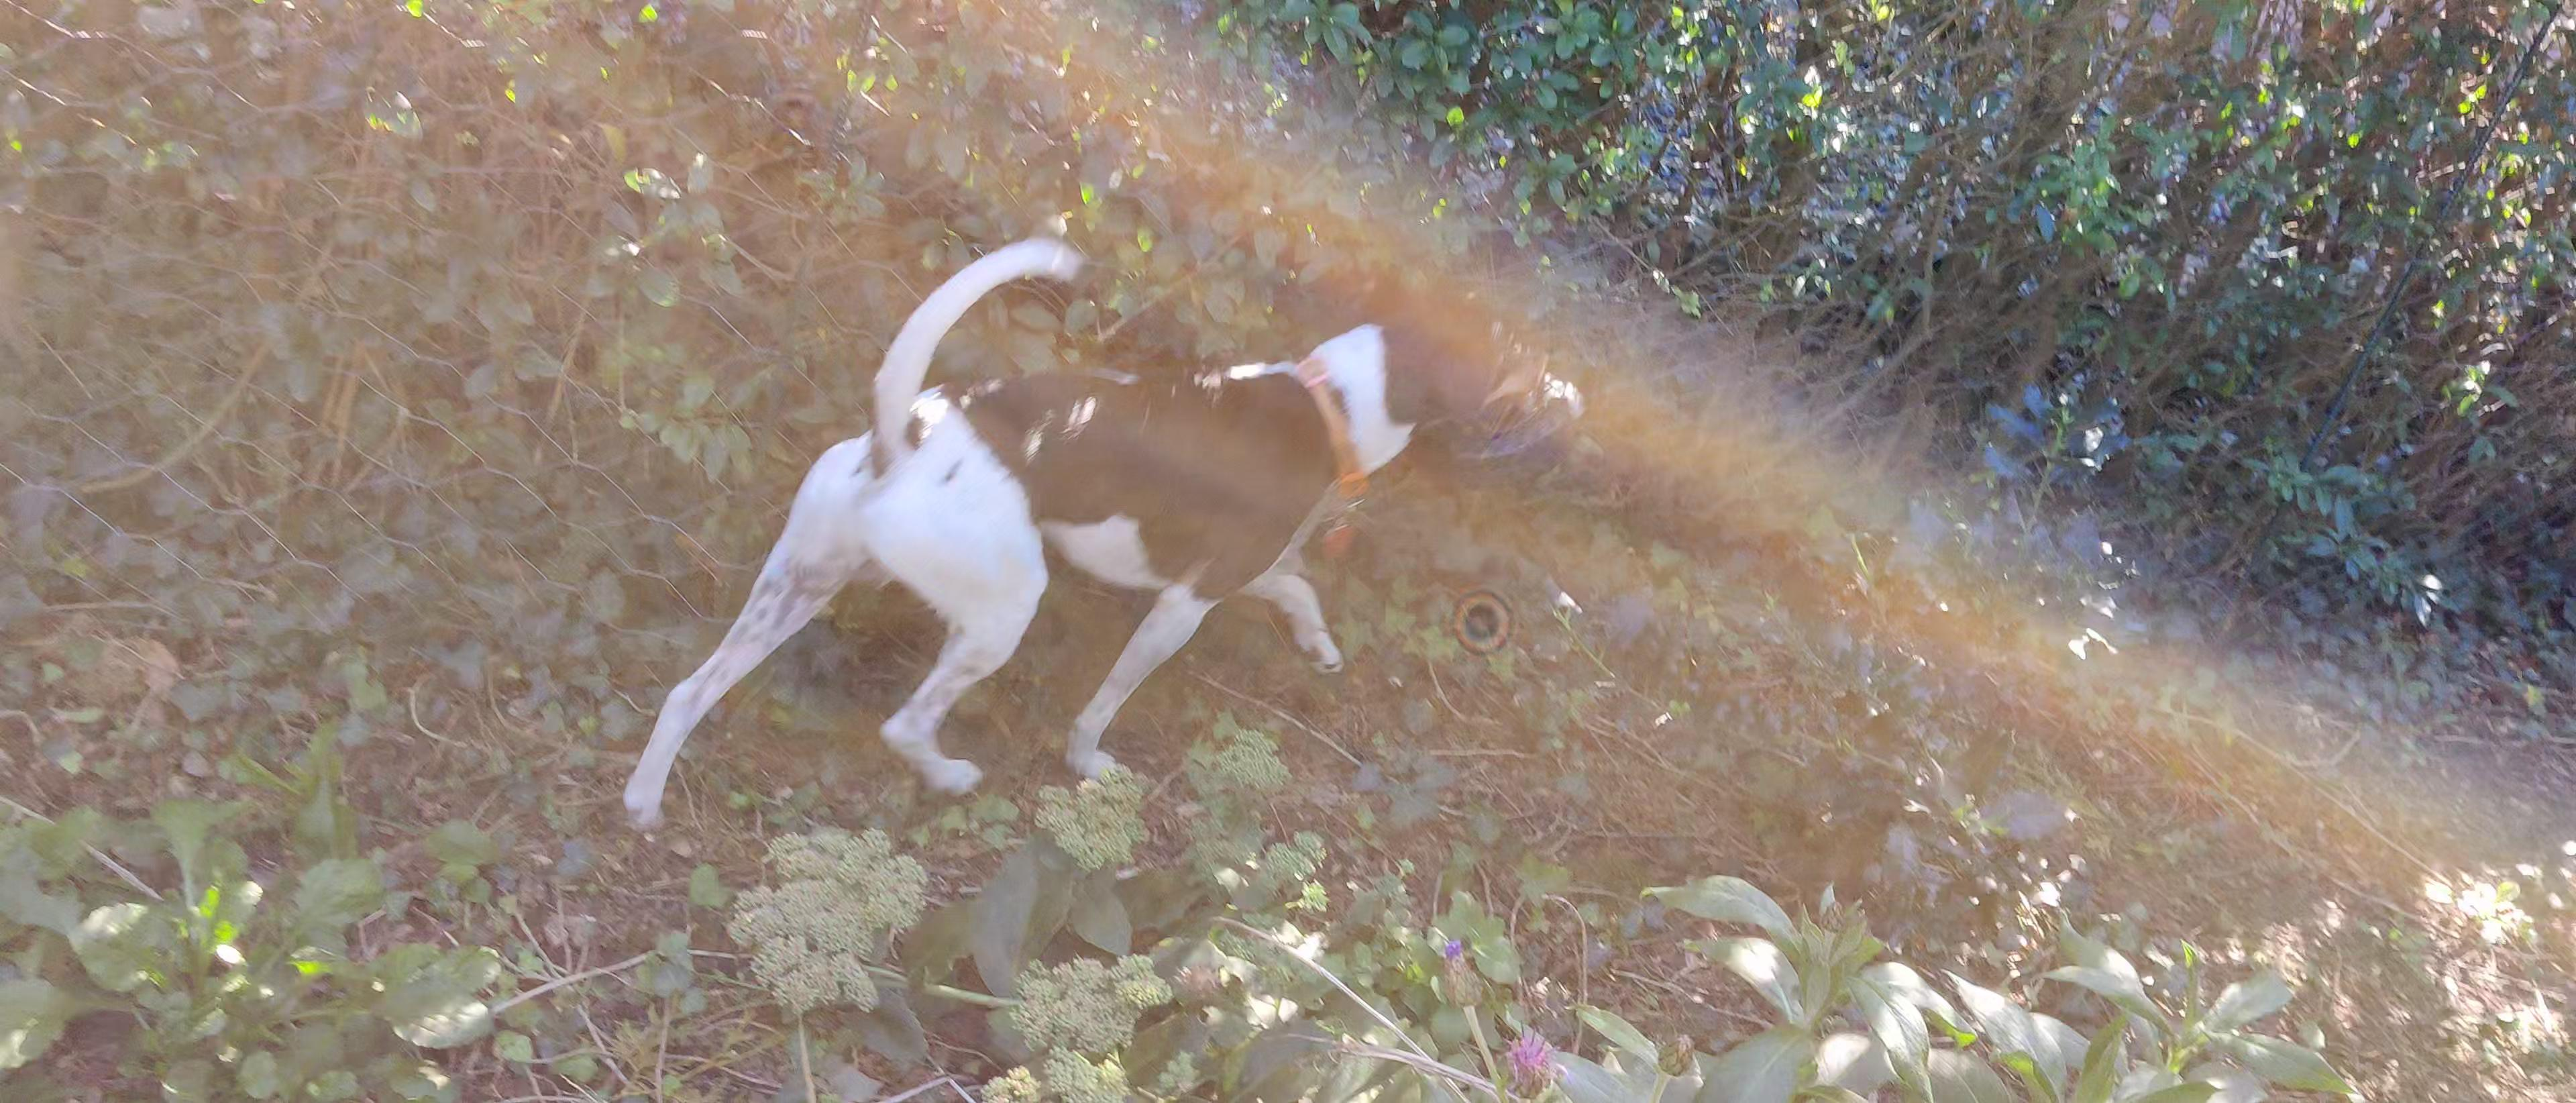Dog: (618, 233, 1562, 837)
